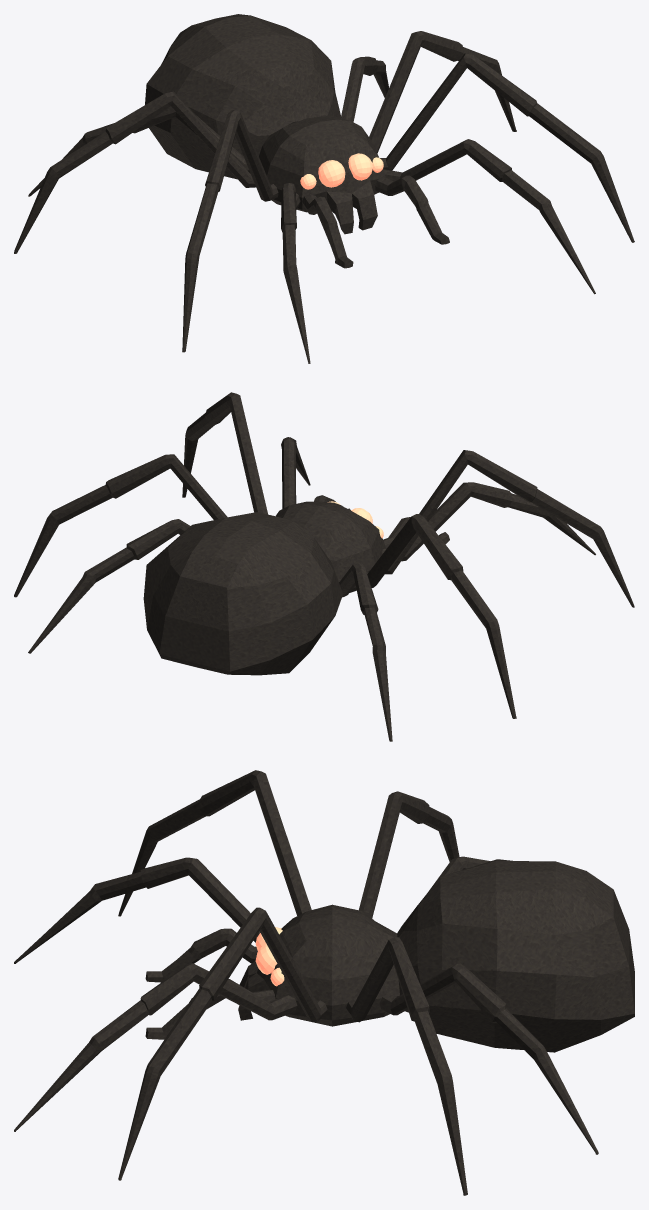
Rendered from cave_spider_v0.glb.
The picture shows the model from 3 angles, top to bottom: view 1: azimuth 30°, elevation 25°; view 2: azimuth 150°, elevation 25°; view 3: azimuth 270°, elevation 25°; orthographic projection. The views are drawn at different scales.
Parts seen in each view (by area): view 1: body, leg_l0, leg_r0, leg_r1, leg_r3, leg_l1, leg_r2; view 2: body, leg_r0, leg_r3, leg_l0, leg_r2, leg_l3, leg_l2; view 3: body, leg_l0, leg_r0, leg_r3, leg_l2, leg_l1, leg_l3.
Boxes of the visible parts, <box> form: body: <box>14,14,634,363</box>; leg_l0: <box>383,139,551,211</box>; leg_r0: <box>281,183,300,272</box>; leg_r1: <box>182,258,198,350</box>; leg_r3: <box>29,115,355,194</box>; leg_l1: <box>326,157,633,241</box>; leg_r2: <box>14,139,362,252</box>; body: <box>14,392,634,741</box>; leg_r0: <box>382,482,550,561</box>; leg_r3: <box>283,501,392,740</box>; leg_l0: <box>281,437,297,508</box>; leg_r2: <box>448,576,516,717</box>; leg_l3: <box>29,577,93,652</box>; leg_l2: <box>14,493,115,596</box>; body: <box>14,770,634,1195</box>; leg_l0: <box>89,963,297,1050</box>; leg_r0: <box>89,857,260,942</box>; leg_r3: <box>299,914,365,940</box>; leg_l2: <box>411,1015,467,1193</box>; leg_l1: <box>118,928,282,1179</box>; leg_l3: <box>539,1053,598,1153</box>.
Bounding box in the file's own units: 0.95 × 0.3119 × 0.8433.
2 materials, 1 textured.
